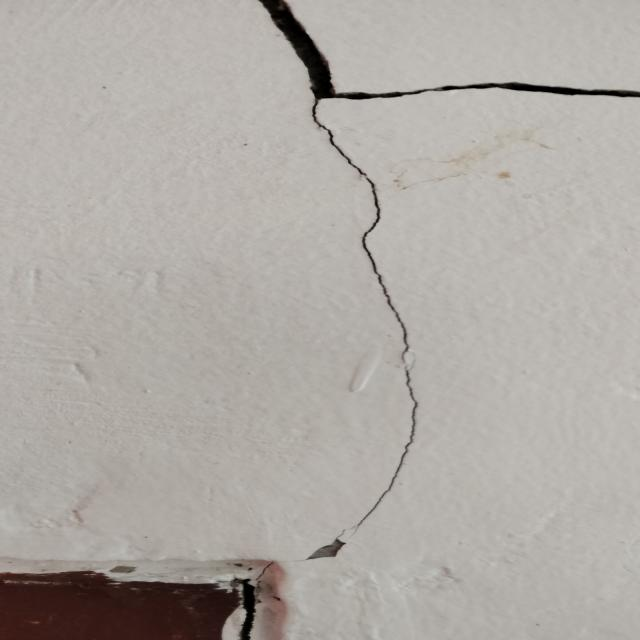Crack: (248, 2, 640, 558)
